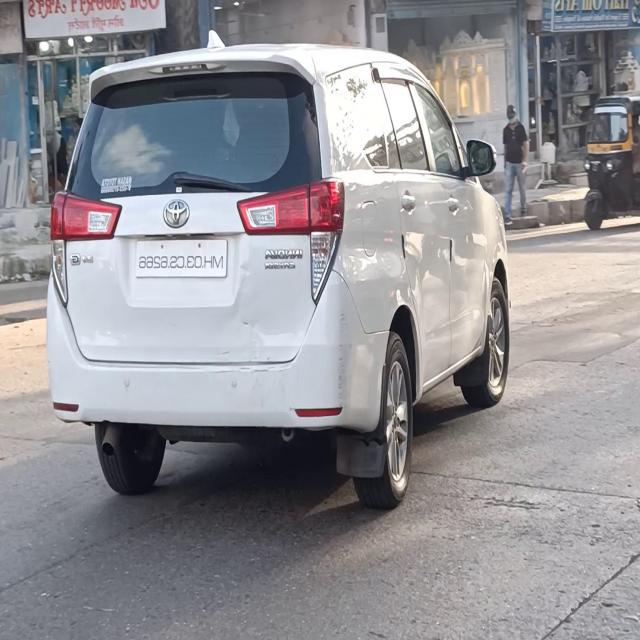license_plate: (131, 228, 231, 292)
